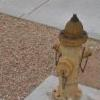Hydrant: (44, 12, 97, 100)
